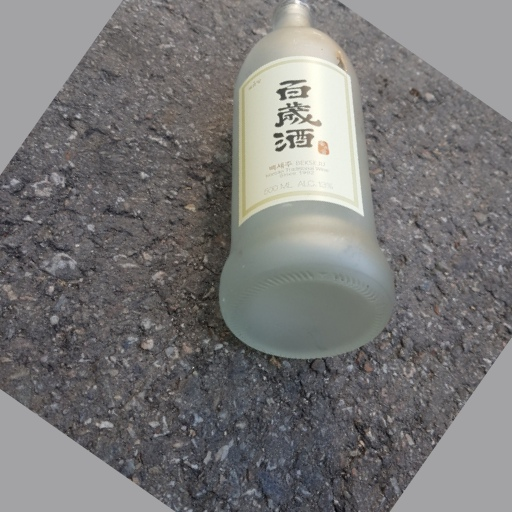Glass_0: (215, 1, 396, 361)
